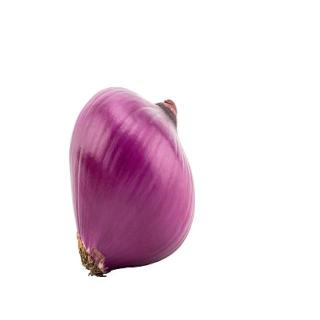Bawang Merah: (64, 85, 200, 282)
